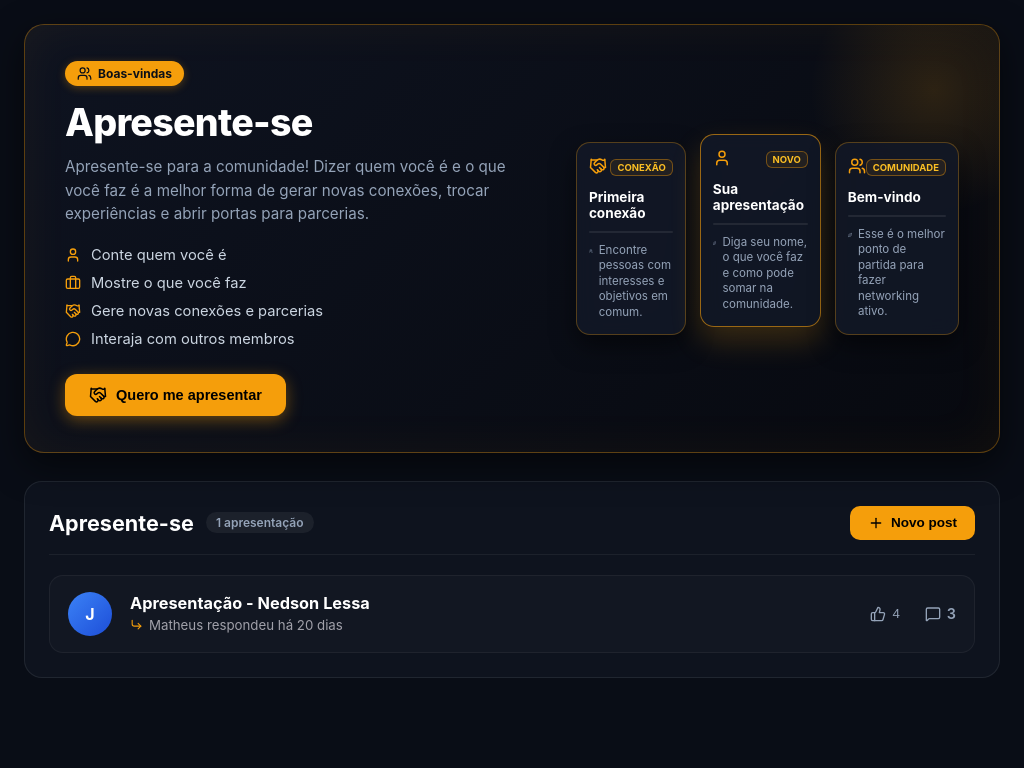
Scenario: IntroductionManagement Component › exibe popup de confirmação estilizado com ícone ao excluir apresentação
Step 1. Click the button with test id "intro-post-row-101" → click(90, 614), box top-left (49, 575), bottom-right (975, 653)
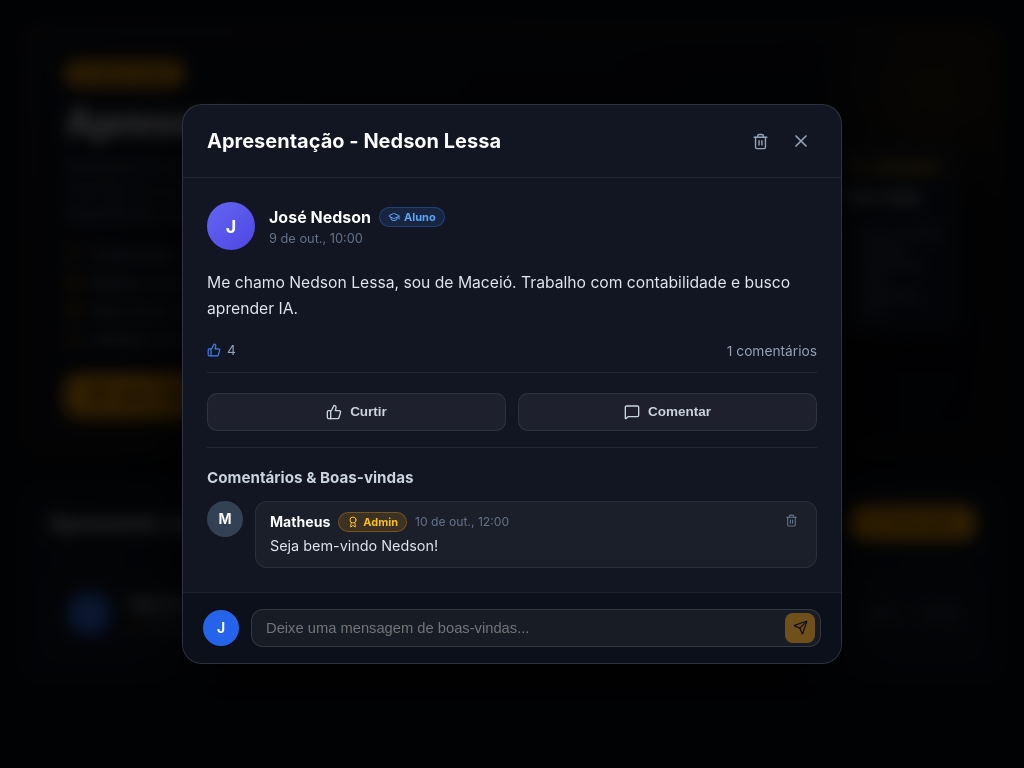
Expected: the dialog with test id "intro-post-modal" is shown, top-left (182, 104), bottom-right (842, 664)
# Clica no ícone de exclusão
Step 2. Click the button with test id "delete-intro-post-trigger-btn" → click(760, 141), box top-left (746, 127), bottom-right (775, 156)
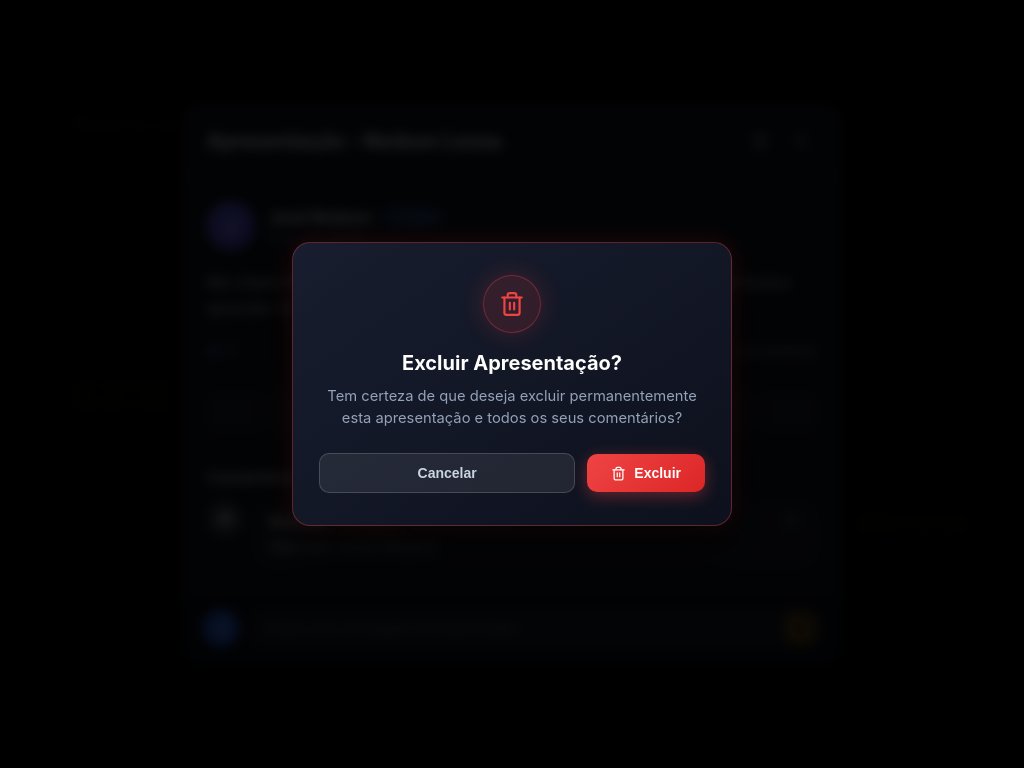
Expected: the heading "Excluir Apresentação?" is shown, top-left (402, 351), bottom-right (622, 375)
Expected: the button with test id "cancel-delete-post-btn" is shown
Expected: the button with test id "confirm-delete-post-btn" is shown, top-left (587, 454), bottom-right (705, 492)
# Clica em Cancelar
Step 3. Click the button with test id "cancel-delete-post-btn" → click(447, 473), box top-left (319, 453), bottom-right (575, 493)
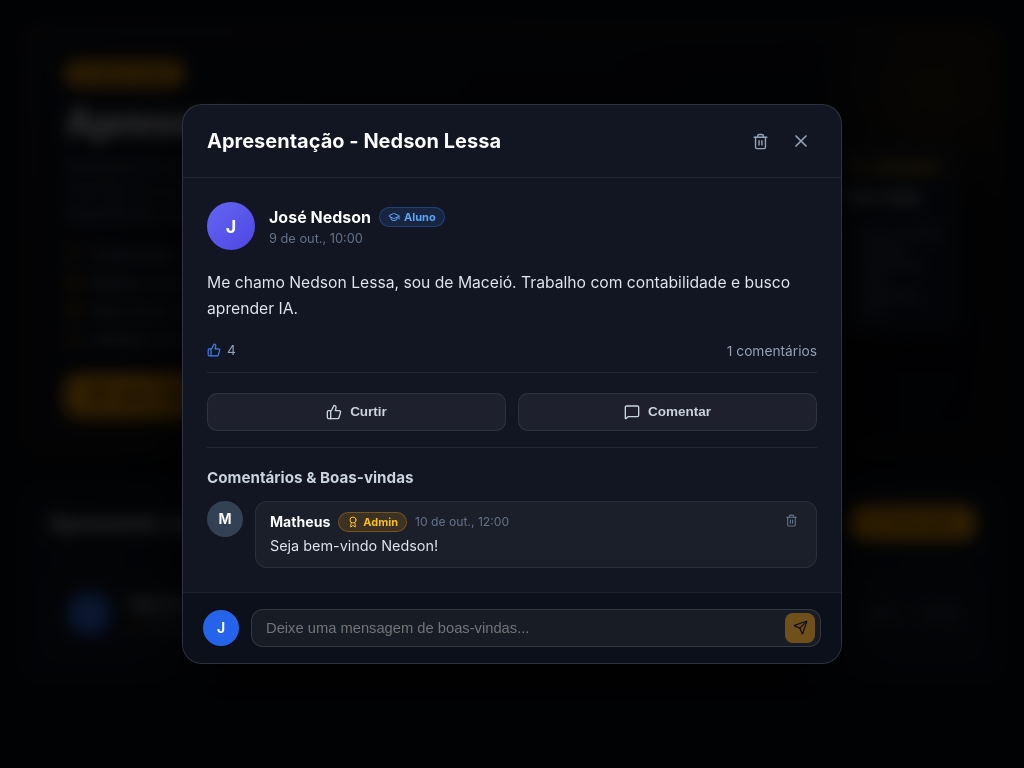
Expected: the element with test id "intro-confirm-delete-overlay" is gone
